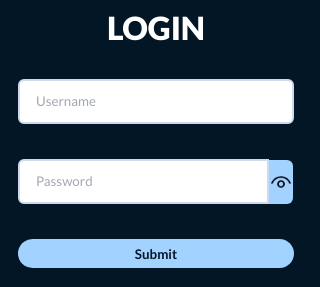
Scenario: Testing in <Form/> › Should validate username field and show error by length
Type "ad" into the field labelled "Username".
click(156, 101); type("ad")  # box x1=18 y1=79 x2=294 y2=124
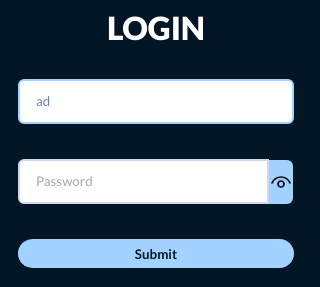
Type "contrasena123@" into the password field with placeholder "Password".
click(144, 182); type("contrasena123@")  # box x1=18 y1=159 x2=269 y2=204
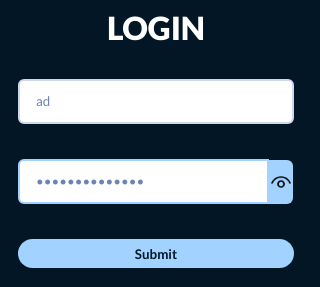
Click the button "Submit".
click(156, 254)  # box x1=18 y1=239 x2=294 y2=268
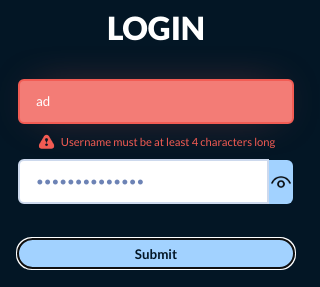
Now the text "Username must be at least 4 characters long" is shown, box x1=61 y1=135 x2=275 y2=148
